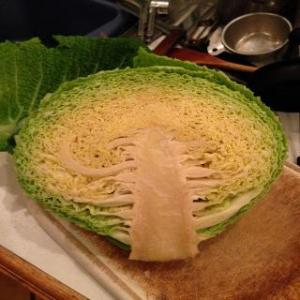cabbage: (17, 68, 279, 262)
